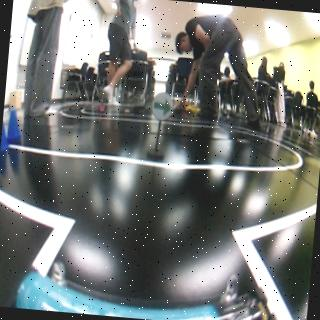right: (150, 96, 173, 118)
